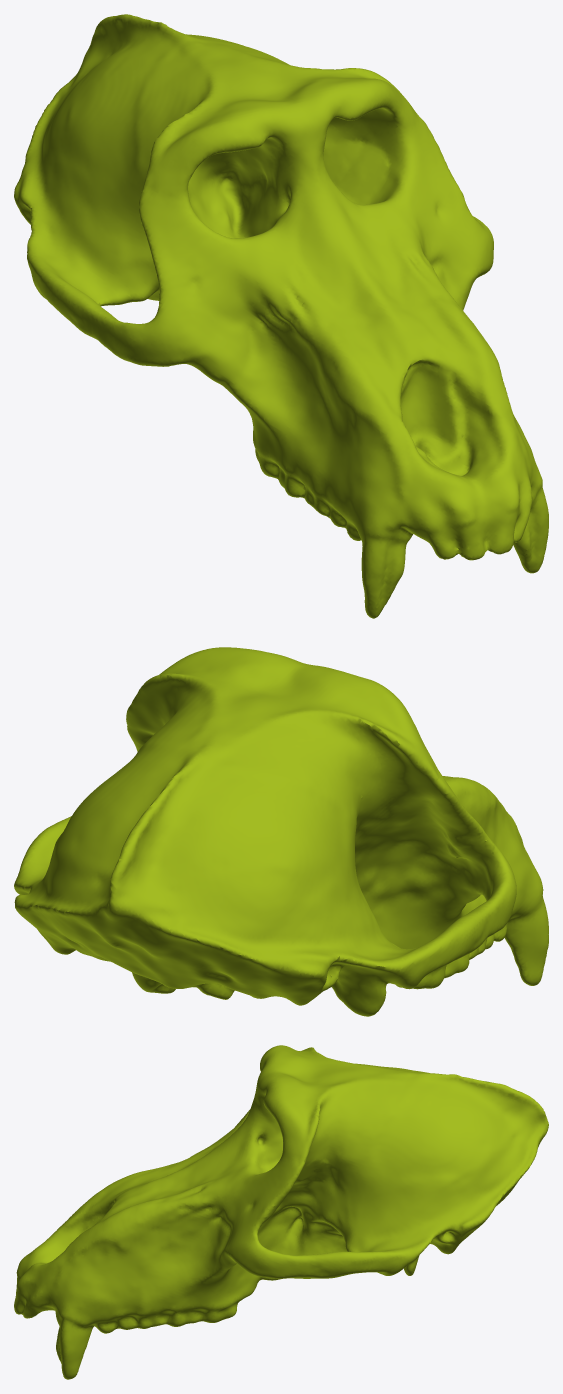
3 views of the same model, one above another, from view 1: azimuth 30°, elevation 25°; view 2: azimuth 150°, elevation 25°; view 3: azimuth 270°, elevation 25° (orthographic). The views are drawn at different scales.
Visible parts, largest first — view 1: Object_2; view 2: Object_2; view 3: Object_2.
Boxes of the visible parts, x1,y1,x2,y2 form: Object_2: [14, 14, 548, 618]; Object_2: [14, 647, 548, 1016]; Object_2: [14, 1045, 548, 1379].
Size of the model in its own units: 0.6032 by 0.5825 by 1.
